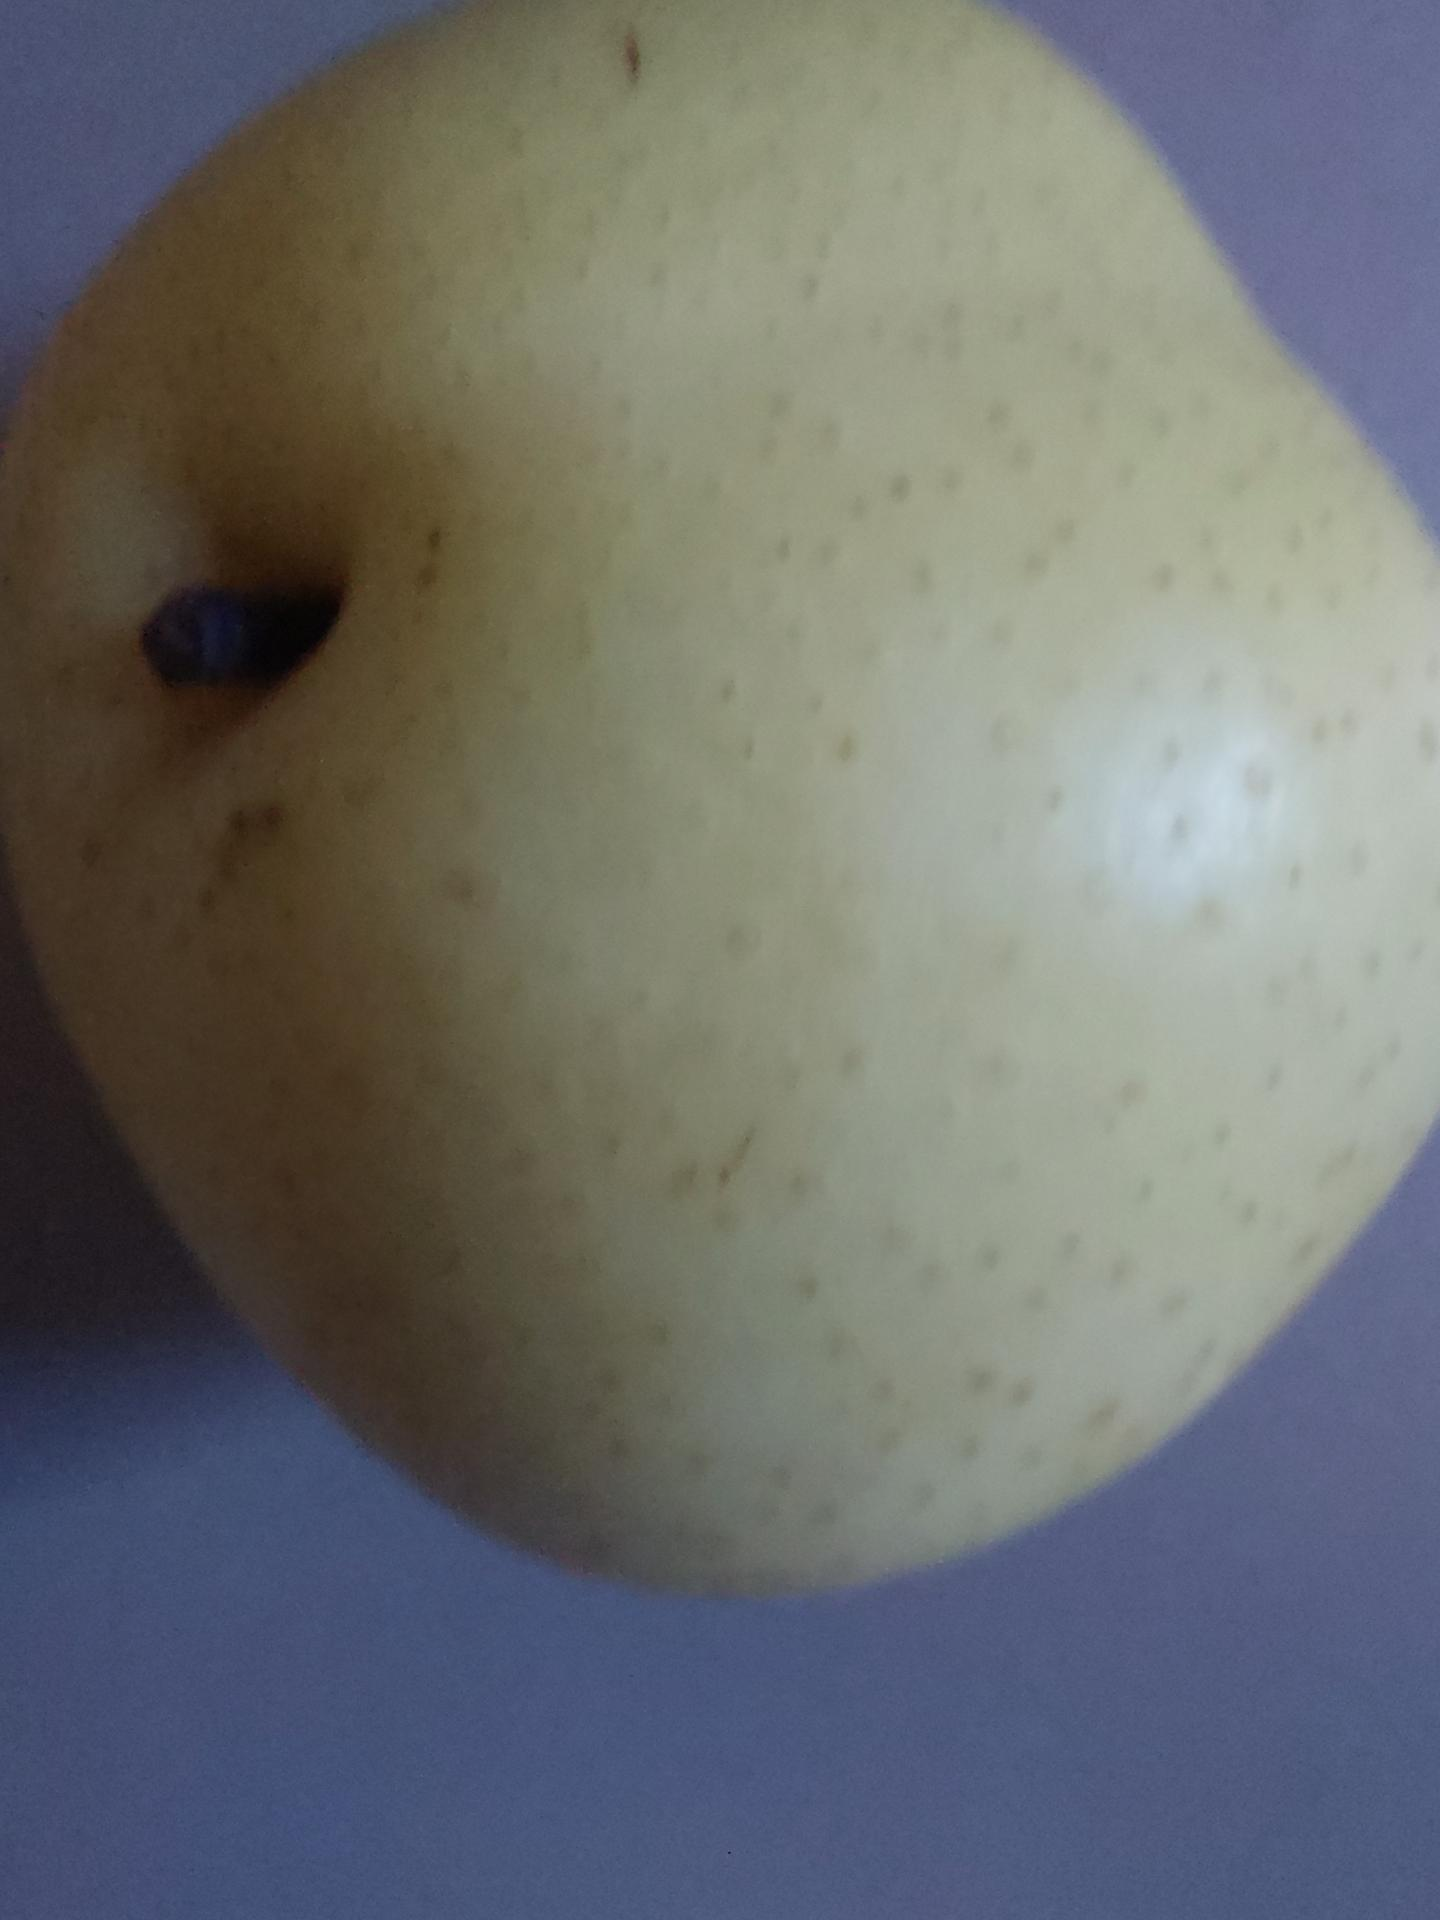Good Pear: (0, 0, 1440, 1607)
